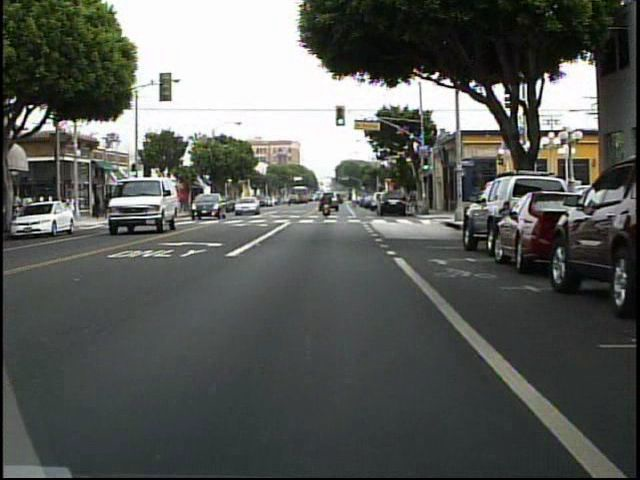person: (66, 188, 81, 227), (321, 189, 336, 219), (94, 192, 104, 222), (104, 191, 112, 221)
